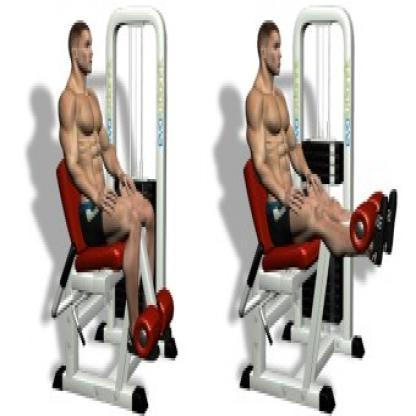leg extension: (228, 3, 403, 416), (45, 3, 182, 416)
